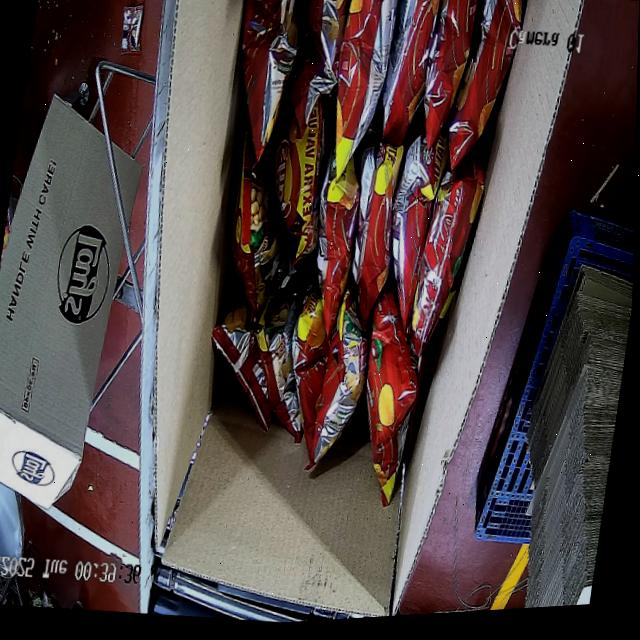MASALA: (172, 0, 525, 525)
